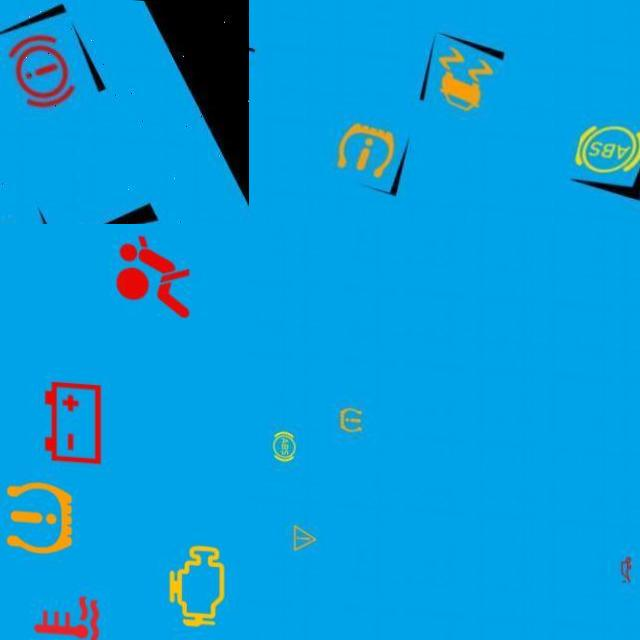High Engine Coolant Temperature: (18, 574, 115, 640)
